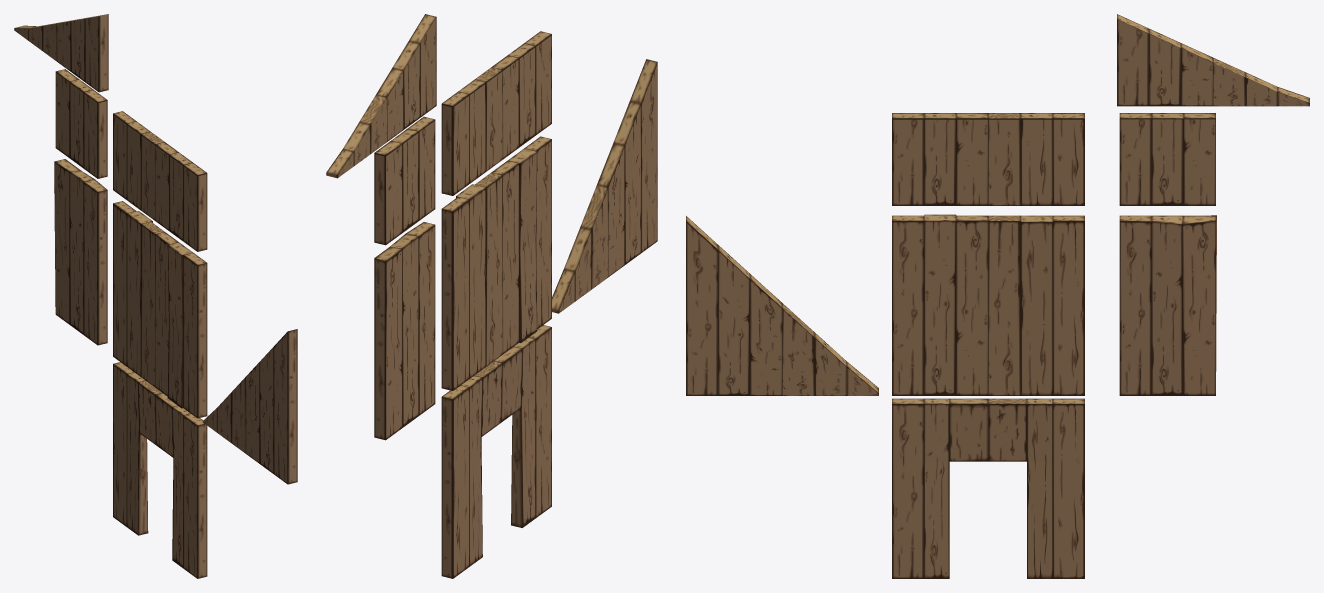
File: Pionowe deski ściany.fbx
The picture shows the model from 3 angles, left to right: view 1: azimuth 30°, elevation 25°; view 2: azimuth 150°, elevation 25°; view 3: azimuth 270°, elevation 25°; orthographic projection. The views are drawn at different scales.
Visible parts, largest first — view 1: ŚcianaDechyPionowe1, ŚcianaDechyPionowe1 Drzwi, ŚcianaDechyPionowe1 pionowa, ŚcianaDechyPionowe1 pozioma, ŚcianaDechyPionowe1 skos wiekszy, ŚcianaDechyPionowe1 kwartal, skos mniejszy; view 2: ŚcianaDechyPionowe1, ŚcianaDechyPionowe1 Drzwi, ŚcianaDechyPionowe1 skos wiekszy, ŚcianaDechyPionowe1 pionowa, ŚcianaDechyPionowe1 pozioma, skos mniejszy, ŚcianaDechyPionowe1 kwartal; view 3: ŚcianaDechyPionowe1, ŚcianaDechyPionowe1 Drzwi, ŚcianaDechyPionowe1 skos wiekszy, ŚcianaDechyPionowe1 pozioma, ŚcianaDechyPionowe1 pionowa, skos mniejszy, ŚcianaDechyPionowe1 kwartal.
Boxes of the visible parts, box(x1,y1,x2,y2) form: ŚcianaDechyPionowe1: box(113, 201, 207, 418); ŚcianaDechyPionowe1 Drzwi: box(113, 362, 207, 578); ŚcianaDechyPionowe1 pionowa: box(54, 159, 107, 345); ŚcianaDechyPionowe1 pozioma: box(113, 111, 207, 251); ŚcianaDechyPionowe1 skos wiekszy: box(203, 329, 297, 484); ŚcianaDechyPionowe1 kwartal: box(55, 69, 107, 178); skos mniejszy: box(14, 14, 108, 92); ŚcianaDechyPionowe1: box(441, 136, 551, 390); ŚcianaDechyPionowe1 Drzwi: box(441, 325, 551, 578); ŚcianaDechyPionowe1 skos wiekszy: box(552, 59, 657, 313); ŚcianaDechyPionowe1 pionowa: box(374, 222, 435, 440); ŚcianaDechyPionowe1 pozioma: box(441, 31, 551, 195); skos mniejszy: box(326, 14, 436, 178); ŚcianaDechyPionowe1 kwartal: box(374, 116, 435, 245); ŚcianaDechyPionowe1: box(892, 214, 1084, 395); ŚcianaDechyPionowe1 Drzwi: box(892, 398, 1084, 578); ŚcianaDechyPionowe1 skos wiekszy: box(686, 216, 878, 395); ŚcianaDechyPionowe1 pozioma: box(892, 113, 1084, 205); ŚcianaDechyPionowe1 pionowa: box(1119, 215, 1216, 395); skos mniejszy: box(1117, 14, 1309, 106); ŚcianaDechyPionowe1 kwartal: box(1119, 113, 1215, 205).
Size of the model in its own units: 27.62 by 960 by 970.
